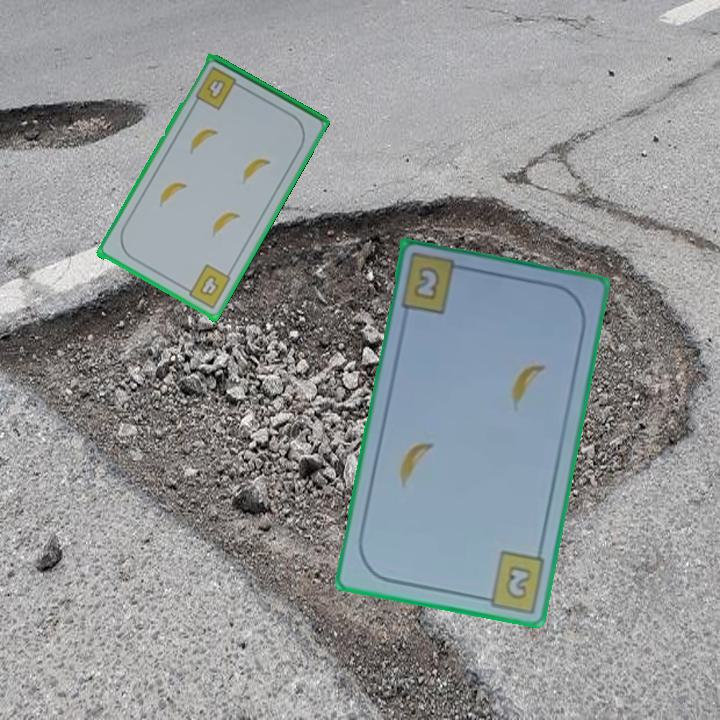2b: (475, 547, 549, 615), (410, 263, 443, 304)
4b: (179, 261, 234, 312), (192, 63, 246, 113)
